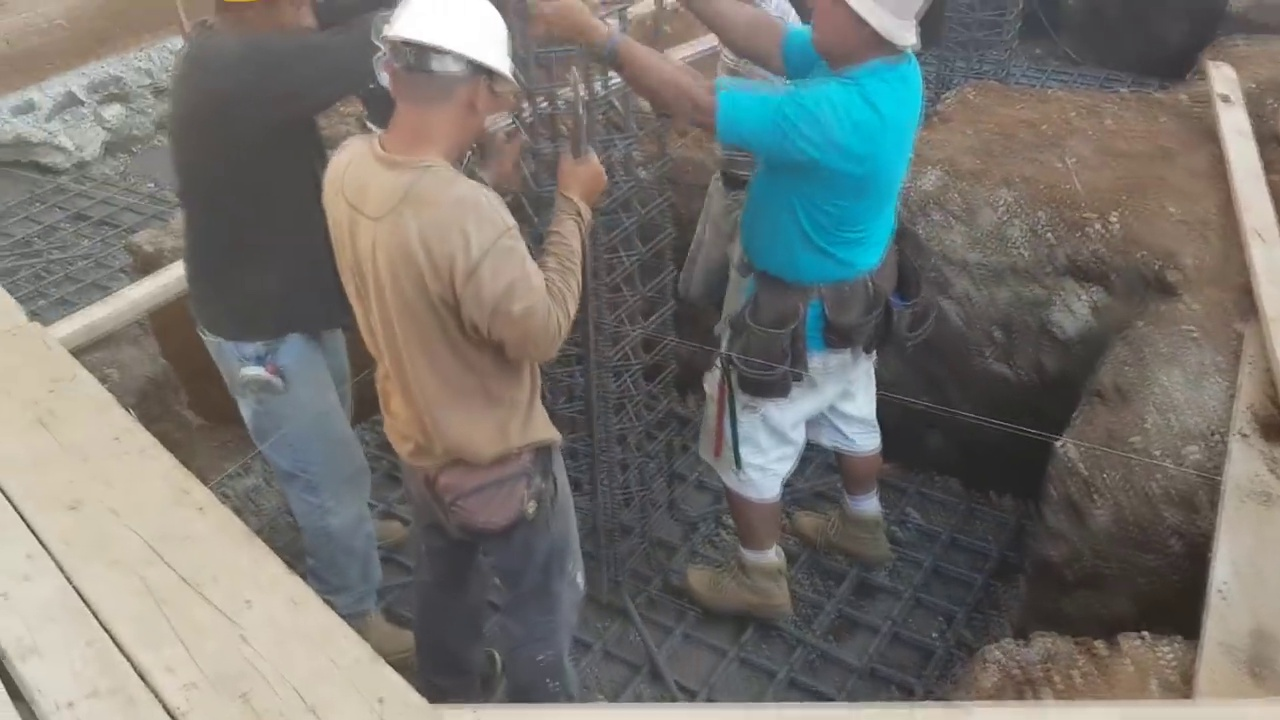helmet: (369, 3, 520, 82)
helmet-off: (810, 0, 926, 70), (211, 0, 320, 45)
helmet-on: (369, 1, 525, 174)
person: (323, 0, 634, 720), (156, 0, 418, 692), (667, 0, 924, 638), (657, 3, 805, 430)
